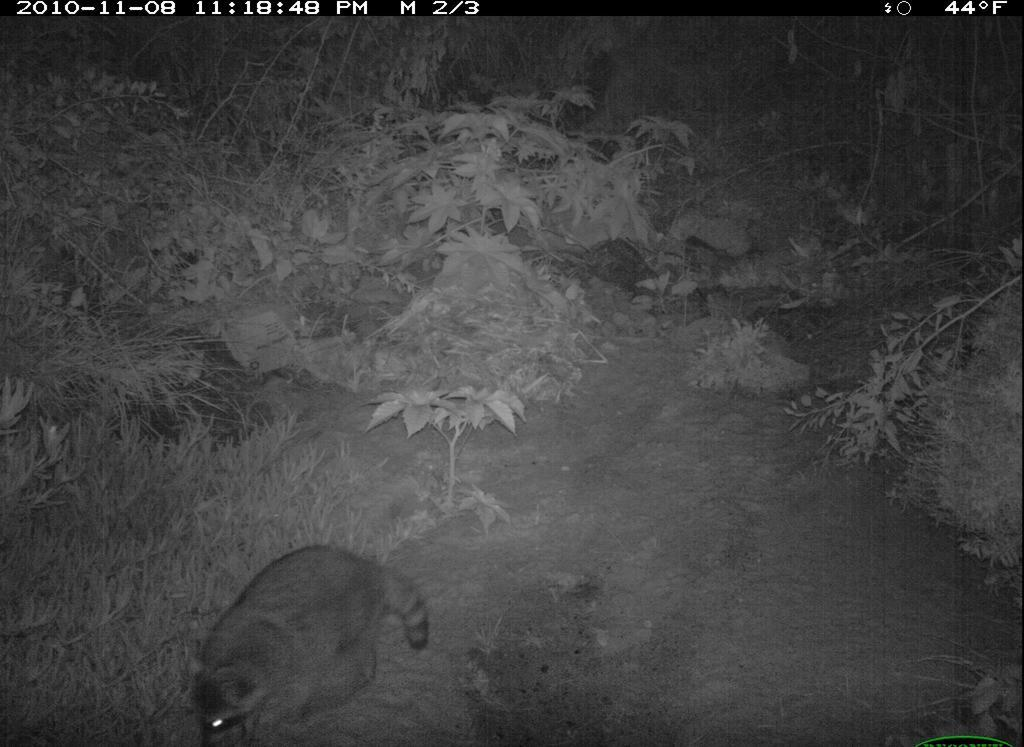raccoon: (181, 537, 434, 747)
